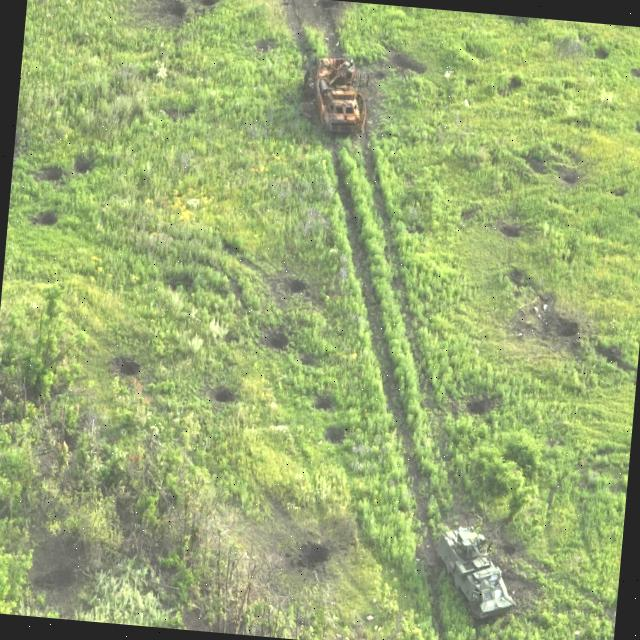APC: (426, 519, 529, 629)
Destroyed: (305, 49, 378, 140)
